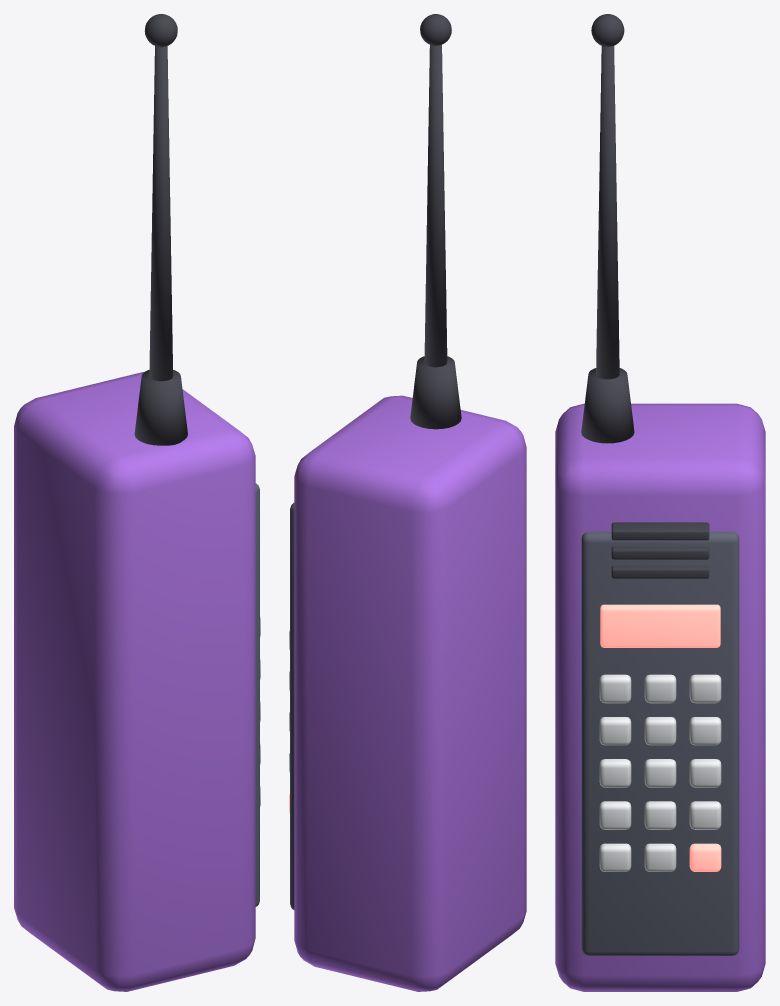
The model's file is brick_phone_1g.glb.
The picture shows the model from 3 angles, left to right: view 1: azimuth 30°, elevation 25°; view 2: azimuth 150°, elevation 25°; view 3: azimuth 270°, elevation 25°; orthographic projection. The views are drawn at different scales.
Visible parts, largest first — view 1: HandsetBody, AntWhip, AntBase, FaceBezel, AntTip; view 2: HandsetBody, AntWhip, AntBase, FaceBezel, AntTip; view 3: HandsetBody, FaceBezel, AntWhip, LedScreen, AntBase, EarSlot_2, EarSlot_1, EarSlot_0, Btn_4_0, Btn_4_2, Btn_4_1, Btn_1_1 (+12 smaller).
Part boxes in pixels (x1=…): HandsetBody: x1=14, y1=372, x2=255, y2=991; AntWhip: x1=149, y1=46, x2=173, y2=381; AntBase: x1=134, y1=369, x2=187, y2=445; FaceBezel: x1=255, y1=483, x2=259, y2=906; AntTip: x1=144, y1=14, x2=177, y2=47; HandsetBody: x1=294, y1=395, x2=526, y2=991; AntWhip: x1=424, y1=44, x2=447, y2=367; AntBase: x1=410, y1=356, x2=461, y2=429; FaceBezel: x1=290, y1=503, x2=294, y2=909; AntTip: x1=420, y1=14, x2=451, y2=45; HandsetBody: x1=555, y1=403, x2=765, y2=991; FaceBezel: x1=581, y1=531, x2=739, y2=955; AntWhip: x1=596, y1=46, x2=619, y2=379; LedScreen: x1=600, y1=604, x2=720, y2=647; AntBase: x1=581, y1=368, x2=634, y2=443; EarSlot_2: x1=611, y1=522, x2=709, y2=540; EarSlot_1: x1=611, y1=546, x2=709, y2=559; EarSlot_0: x1=611, y1=565, x2=709, y2=578; Btn_4_0: x1=599, y1=674, x2=631, y2=703; Btn_4_2: x1=689, y1=674, x2=721, y2=703; Btn_4_1: x1=644, y1=674, x2=676, y2=703; Btn_1_1: x1=644, y1=801, x2=676, y2=829.
Size of the model in its own units: 0.269 by 1.39 by 0.28.
